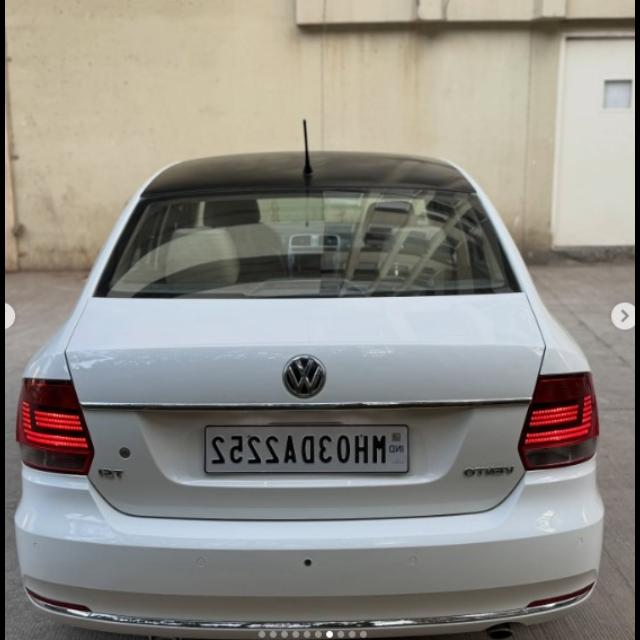vehicles: (20, 148, 602, 634)
